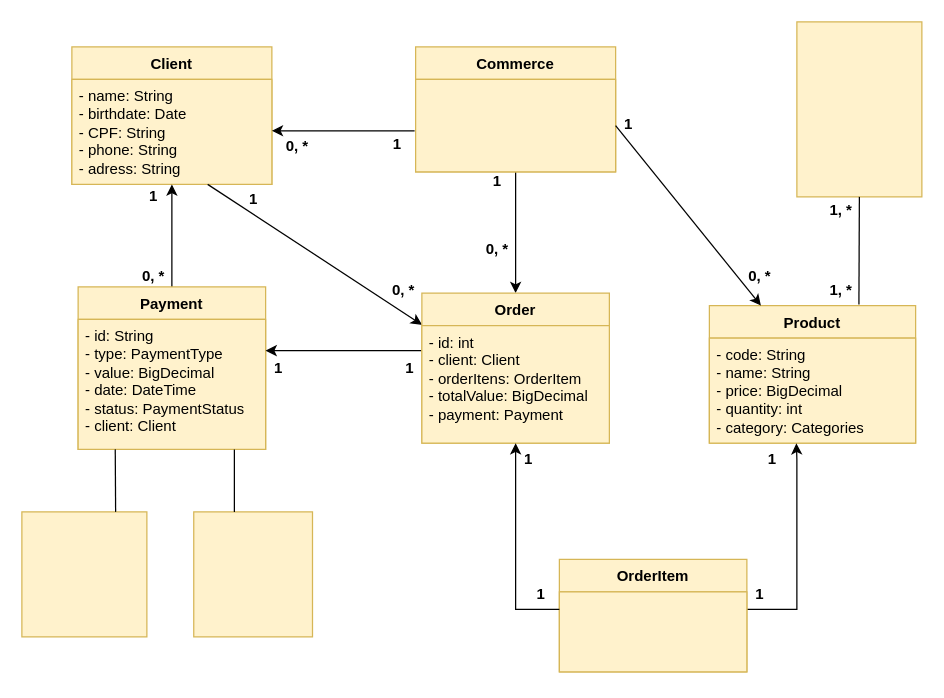
The diagram is 944 pixels wide and 698 high, and some of its shapes have lost their labels. Here are the shapes that lost their labels. From the top down, the centre of each, then its label:
(515,125): - name: String - CNPJ: String - phone: String - adress: String
(859,109): <<Enum>> Categories ELETRONICS CLOTHING FOODS BOOKS GAMES SPORTING
(84,574): <<Enum>> PaymentStatus PENDING COMPLETED FAILED
(252,574): <<Enum>> PaymentType PIX BOLETO
(652,631): - product: Product - quantity: int - price: BigDecimal
